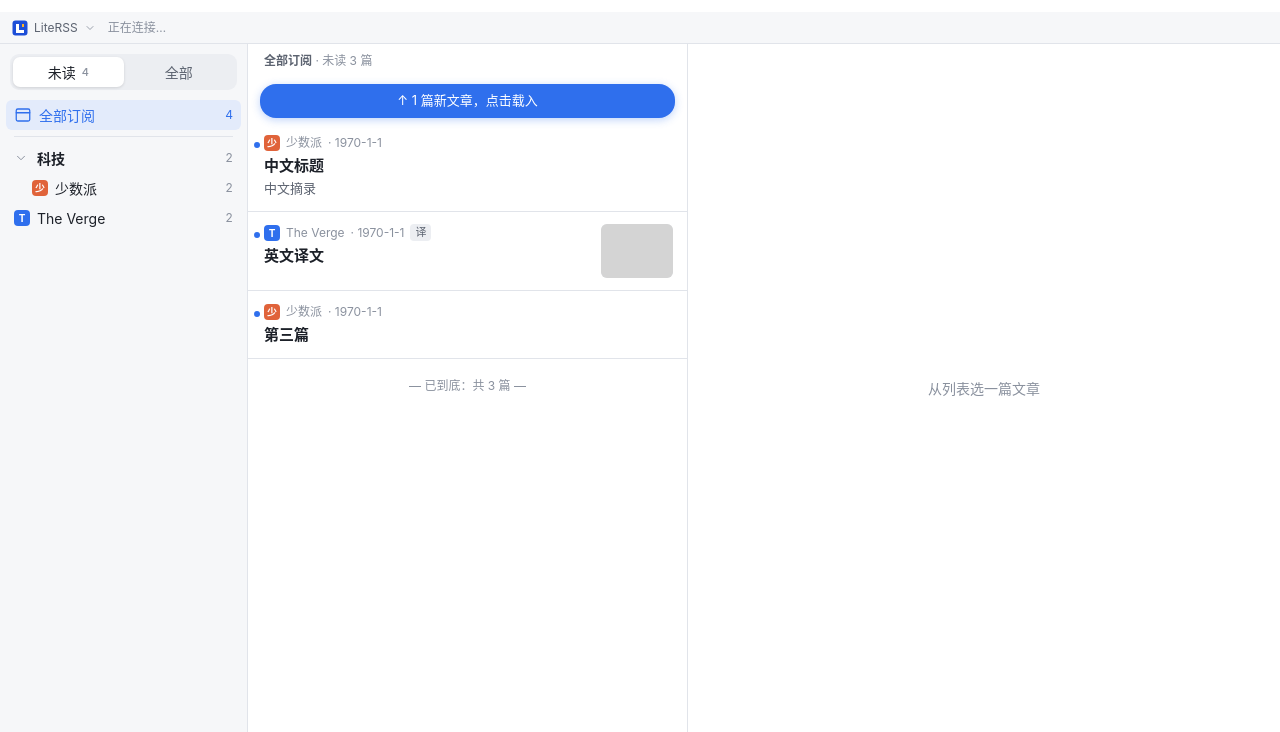
Test case: 列表 › 新文章横幅点击才载入
Expected: the number of options is 3, [248,122,687,212]; [248,212,687,291]; [248,291,687,359]
Click the button with class "new-banner": (468,101) [260,84,675,118]
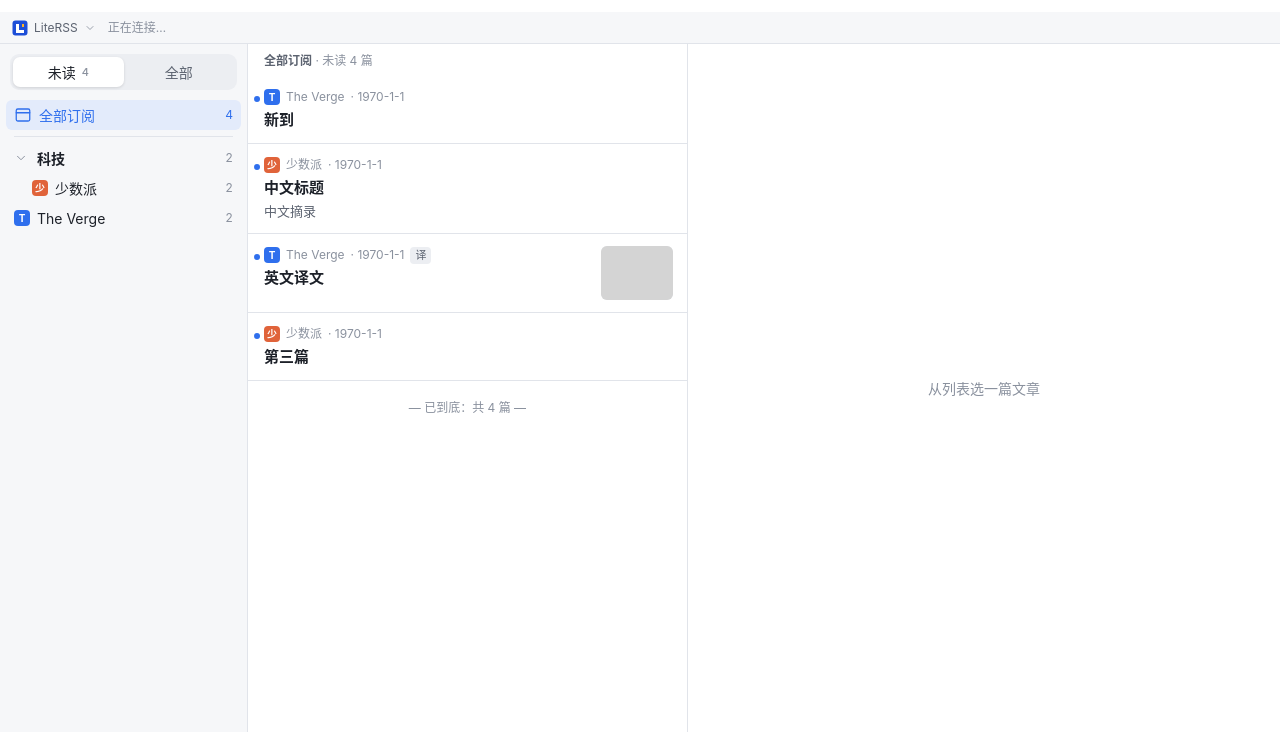
Result: the number of options is 4 at [248,76,687,144]; [248,144,687,234]; [248,234,687,313]; [248,313,687,381]
